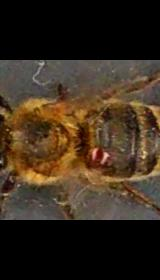varroa_mite: (80, 140, 116, 174)
